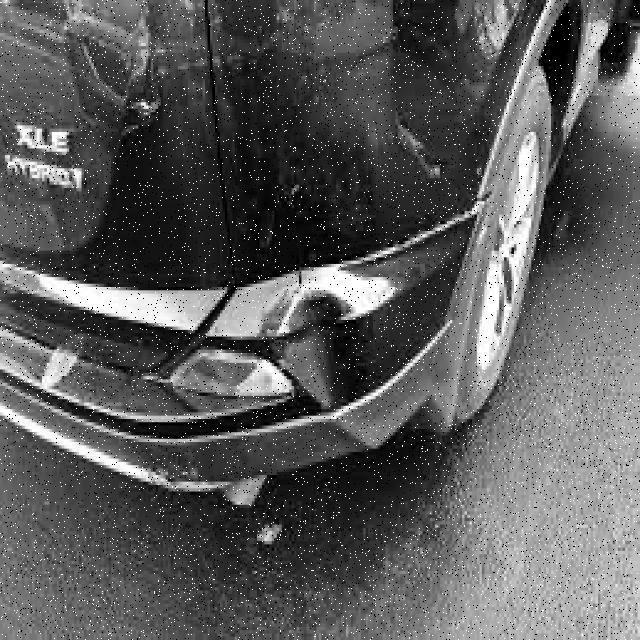rear-bumper-dent: (0, 275, 484, 474)
